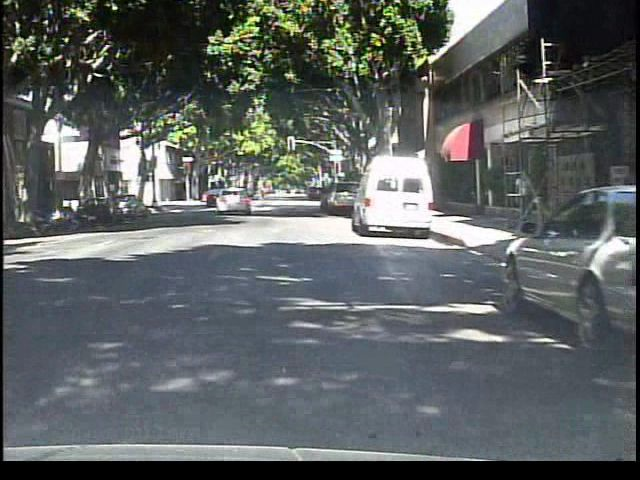person: (510, 164, 537, 232), (252, 178, 272, 212)
